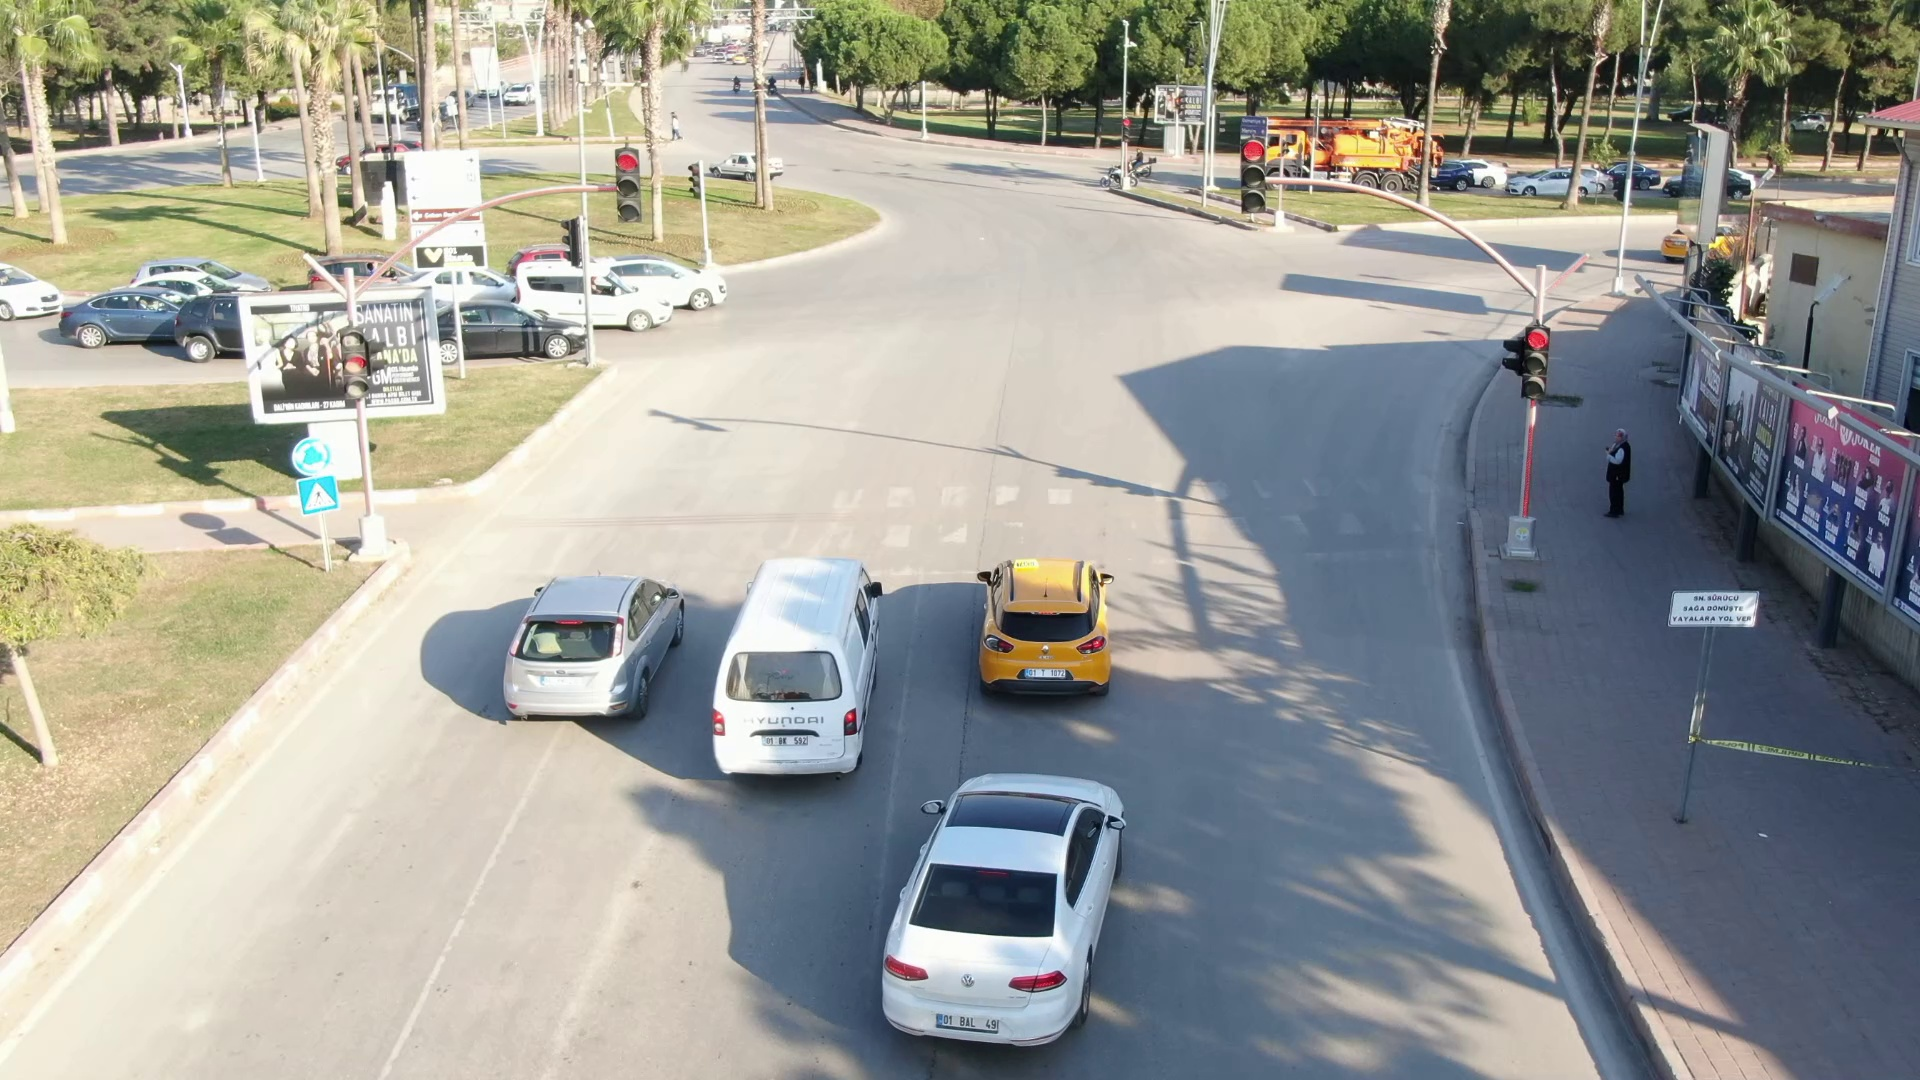car: (884, 766, 1139, 1055), (710, 553, 892, 786), (496, 574, 690, 727), (968, 561, 1123, 706), (506, 257, 680, 339), (439, 298, 594, 363), (602, 249, 733, 310)
person: (1602, 423, 1635, 525)
